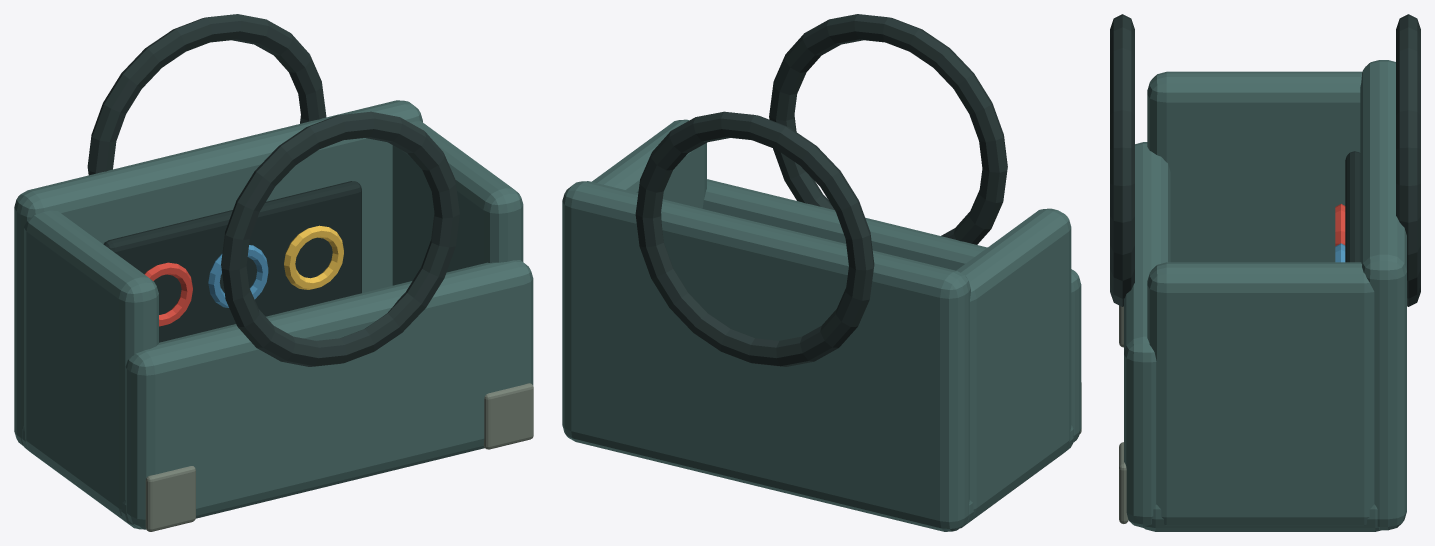
The model's file is bag-yarn-v1-ClmDUEC-.glb.
3 renders of one model, left to right at view 1: azimuth 30°, elevation 25°; view 2: azimuth 150°, elevation 25°; view 3: azimuth 270°, elevation 25°, orthographic. The views are drawn at different scales.
Parts seen in each view (by area): view 1: Low front wall, Left side wall, Back wall, Front handle, Inner pocket, Right side wall, Back handle, Matching corner wear, Matching corner wear.001, Yarn compartment mark 3, Yarn compartment mark 2, Yarn compartment mark 1; view 2: Back wall, Left side wall, Back handle, Front handle, Low front wall, Right side wall; view 3: Right side wall, Left side wall, Back wall, Low front wall, Front handle, Back handle, Bag floor, Inner pocket, Matching corner wear.001, Yarn compartment mark 1.
Part boxes in pixels (box(x1,y1,x2,y2)): Low front wall: box(125, 260, 533, 529); Left side wall: box(24, 210, 158, 516); Back wall: box(14, 100, 422, 446); Front handle: box(221, 111, 459, 366); Inner pocket: box(103, 181, 361, 342); Right side wall: box(392, 121, 523, 285); Back handle: box(87, 14, 326, 175); Matching corner wear: box(145, 466, 195, 531); Matching corner wear.001: box(483, 383, 533, 449); Yarn compartment mark 3: box(284, 225, 343, 289); Yarn compartment mark 2: box(208, 245, 268, 307); Yarn compartment mark 1: box(144, 262, 192, 326); Back wall: box(562, 181, 970, 531); Left side wall: box(956, 208, 1071, 516); Back handle: box(635, 111, 874, 366); Front handle: box(769, 14, 1007, 244); Low front wall: box(702, 179, 1081, 442); Right side wall: box(592, 119, 706, 208); Right side wall: box(1147, 262, 1374, 525); Left side wall: box(1147, 71, 1362, 262); Back wall: box(1360, 60, 1406, 530); Low front wall: box(1124, 142, 1170, 527); Front handle: box(1110, 14, 1134, 306); Back handle: box(1396, 14, 1420, 306); Bag floor: box(1144, 504, 1380, 531); Inner pocket: box(1345, 151, 1360, 262); Matching corner wear.001: box(1119, 442, 1128, 523); Yarn compartment mark 1: box(1335, 204, 1345, 246).
Bounding box in the file's own units: 1.81 × 1.63 × 1.13.
